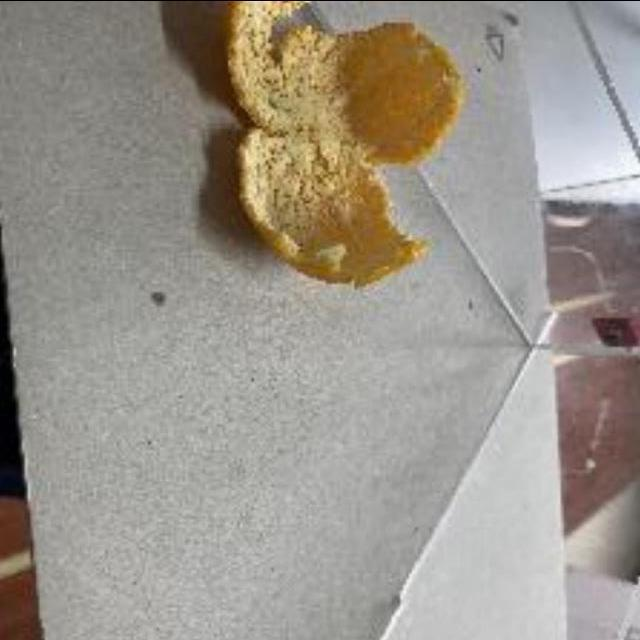orange peel: (226, 0, 465, 286)
